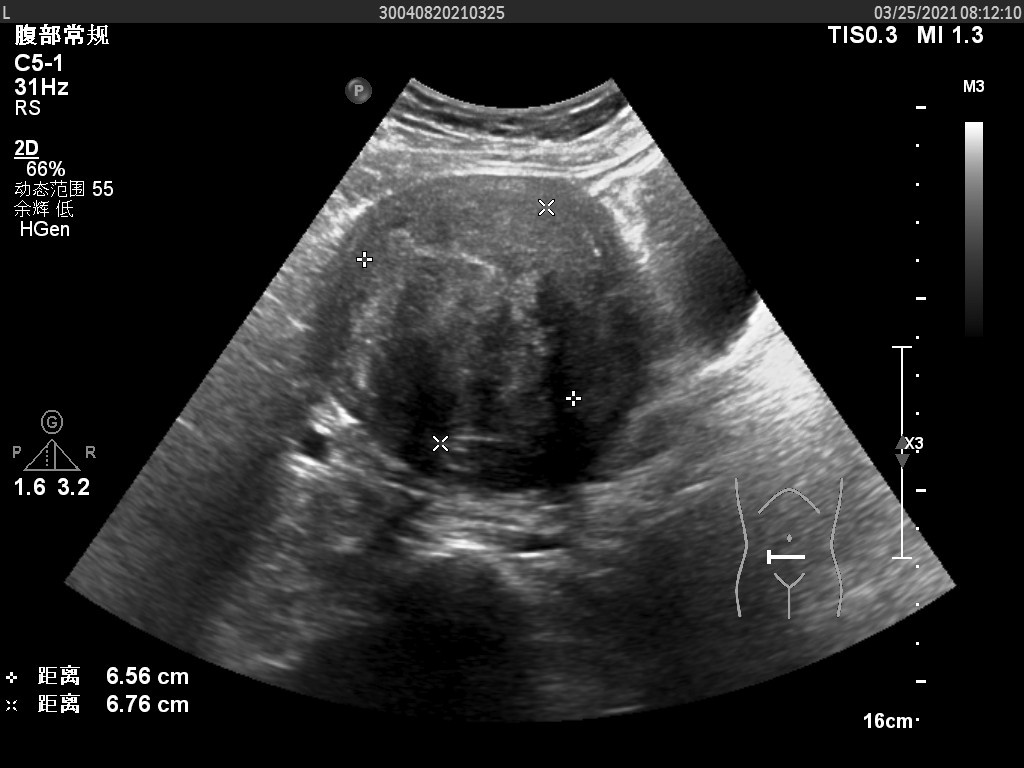肌瘤: (372, 214, 577, 451)
